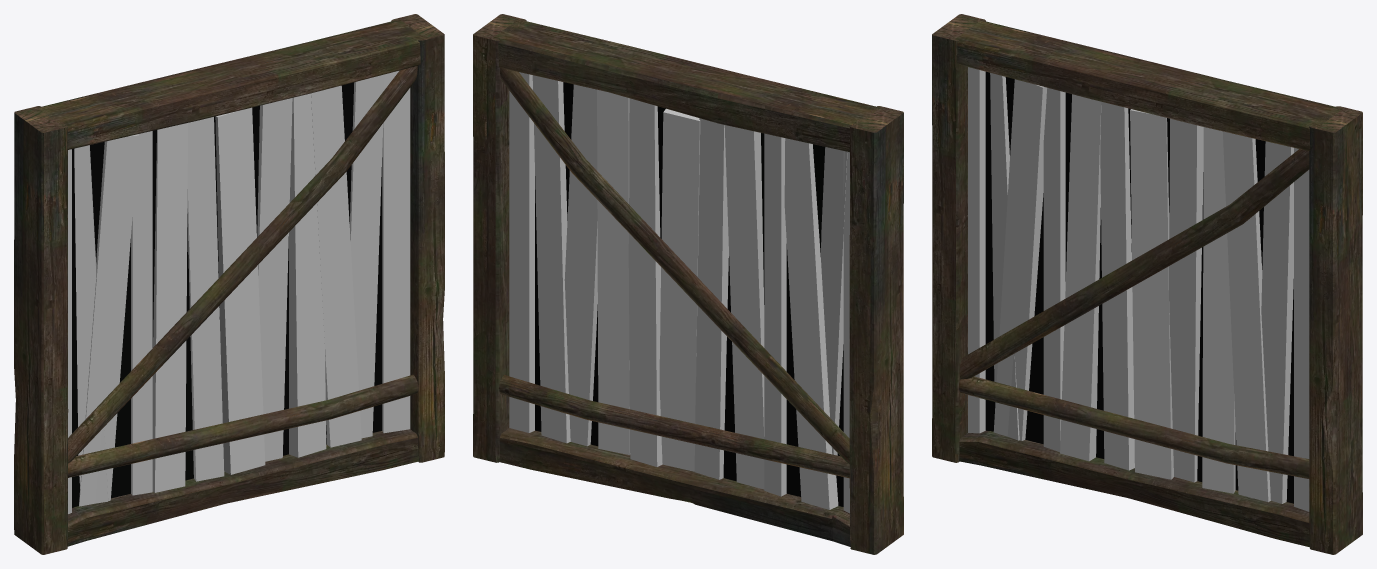
3 renders of one model, left to right at view 1: azimuth 30°, elevation 25°; view 2: azimuth 150°, elevation 25°; view 3: azimuth 330°, elevation 25°, orthographic.
Parts seen in each view (by area): view 1: SM_BB_T1_Wall_Large_LOD0; view 2: SM_BB_T1_Wall_Large_LOD0; view 3: SM_BB_T1_Wall_Large_LOD0.
Part boxes in pixels (box(x1,y1,x2,y2)): SM_BB_T1_Wall_Large_LOD0: box(14, 14, 444, 554); SM_BB_T1_Wall_Large_LOD0: box(473, 14, 903, 554); SM_BB_T1_Wall_Large_LOD0: box(932, 14, 1362, 554).
Bounding box in the file's own units: 3 × 3 × 0.3776.
